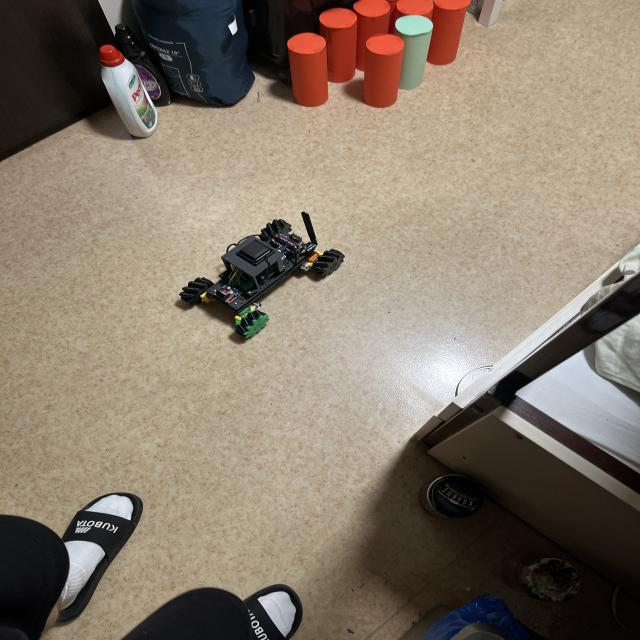robot: (180, 212, 344, 338)
